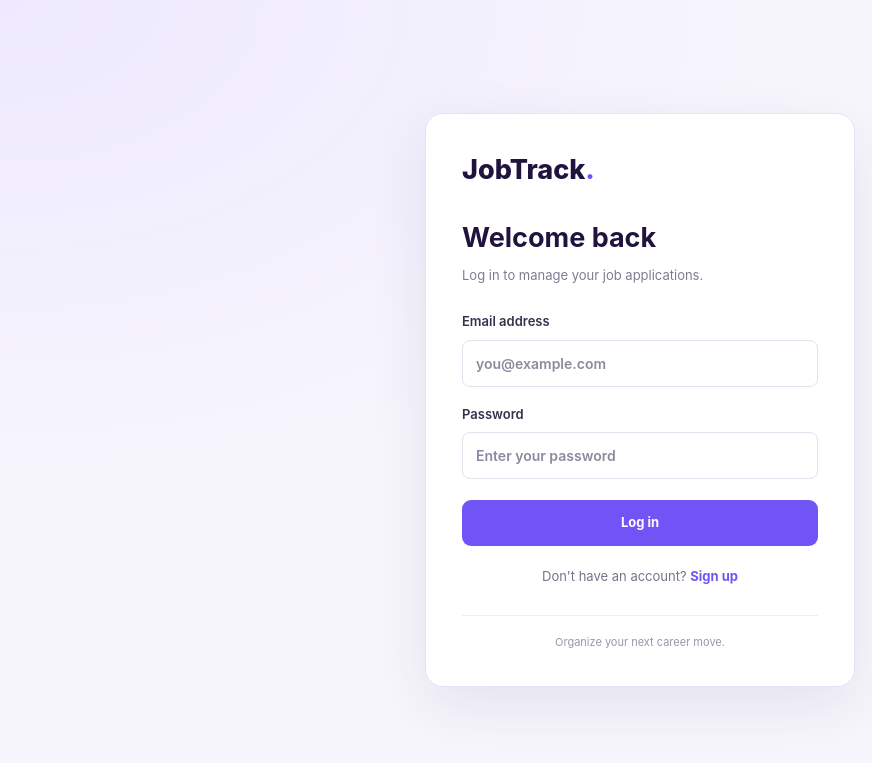
Test: JobTrack authentication UI › shows a helpful message when the backend is unreachable
The width and height of the screenshot is (872, 763).
Type "test@example.com" into the field labelled "Email address".
click(640, 363); type("test@example.com")  # box x1=462 y1=340 x2=818 y2=387
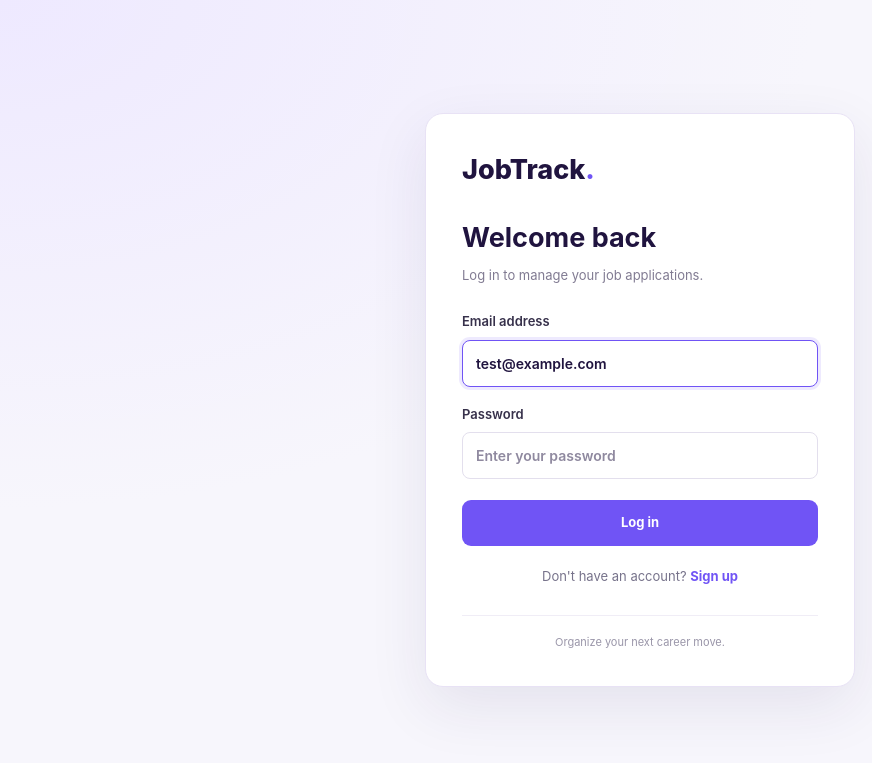
Type "TestPass123!" into the password field labelled "Password".
click(640, 456); type("TestPass123!")  # box x1=462 y1=432 x2=818 y2=479
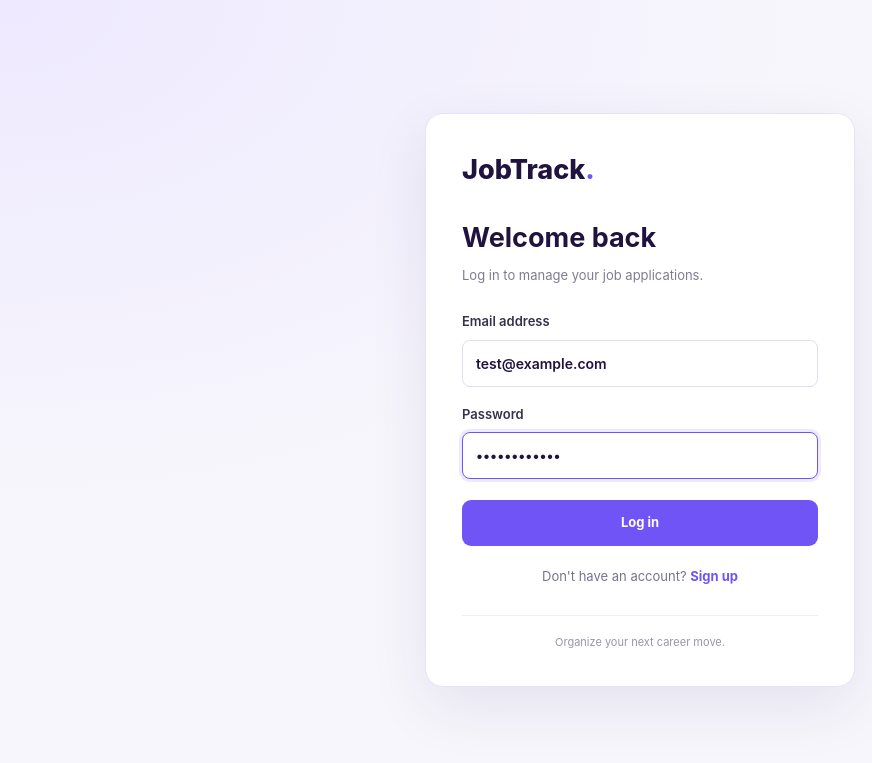
Click the button "Log in".
click(640, 523)  # box x1=462 y1=500 x2=818 y2=546
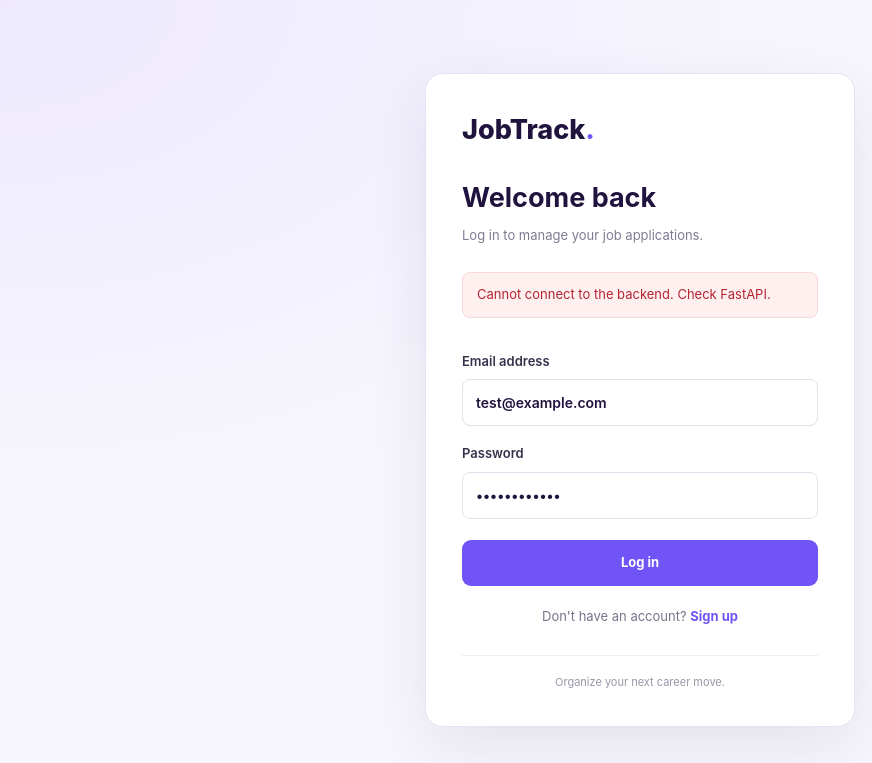
Check: the message shows "Cannot connect to the backend", box x1=477 y1=286 x2=771 y2=302
